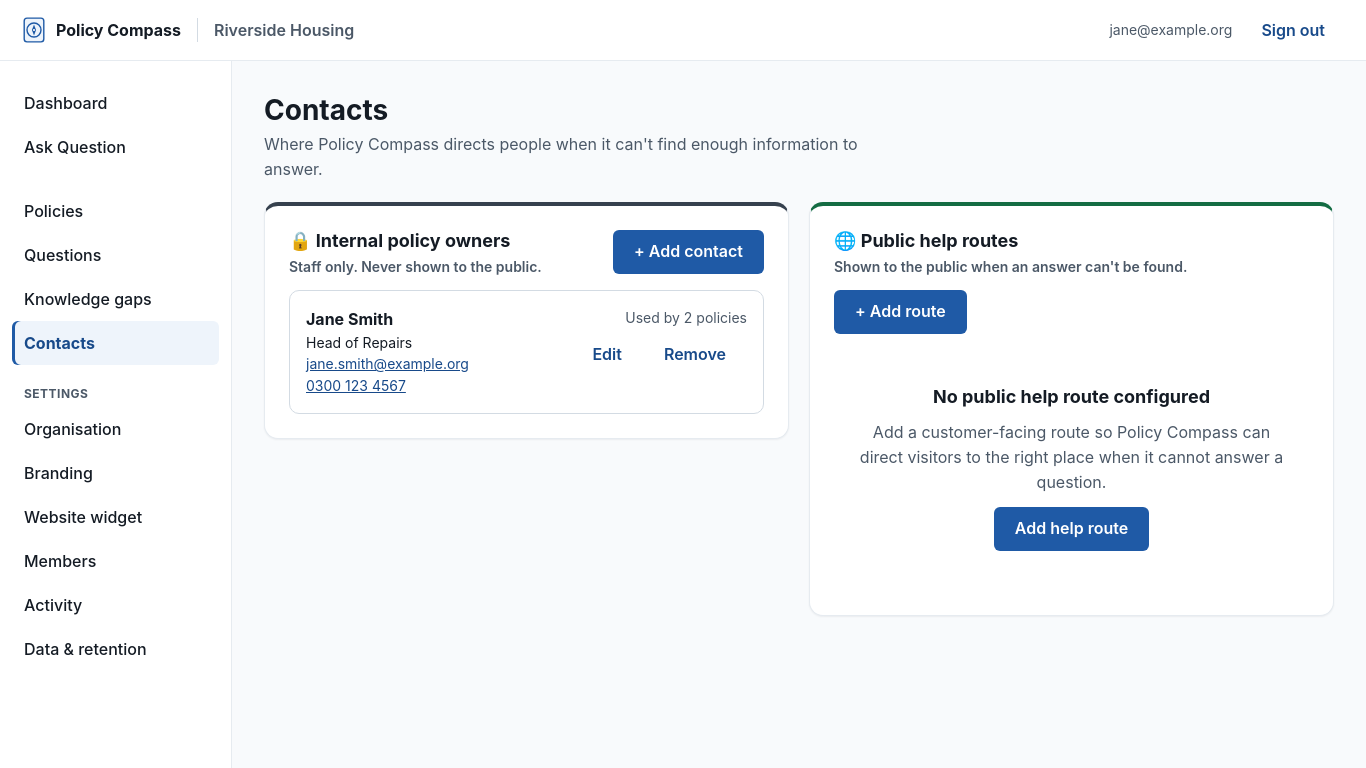
Scenario: Contacts page › warns how many policies use a contact before removing it
Click the button with aria-label "Remove Jane Smith" at [695, 354], box x1=643 y1=332 x2=747 y2=376
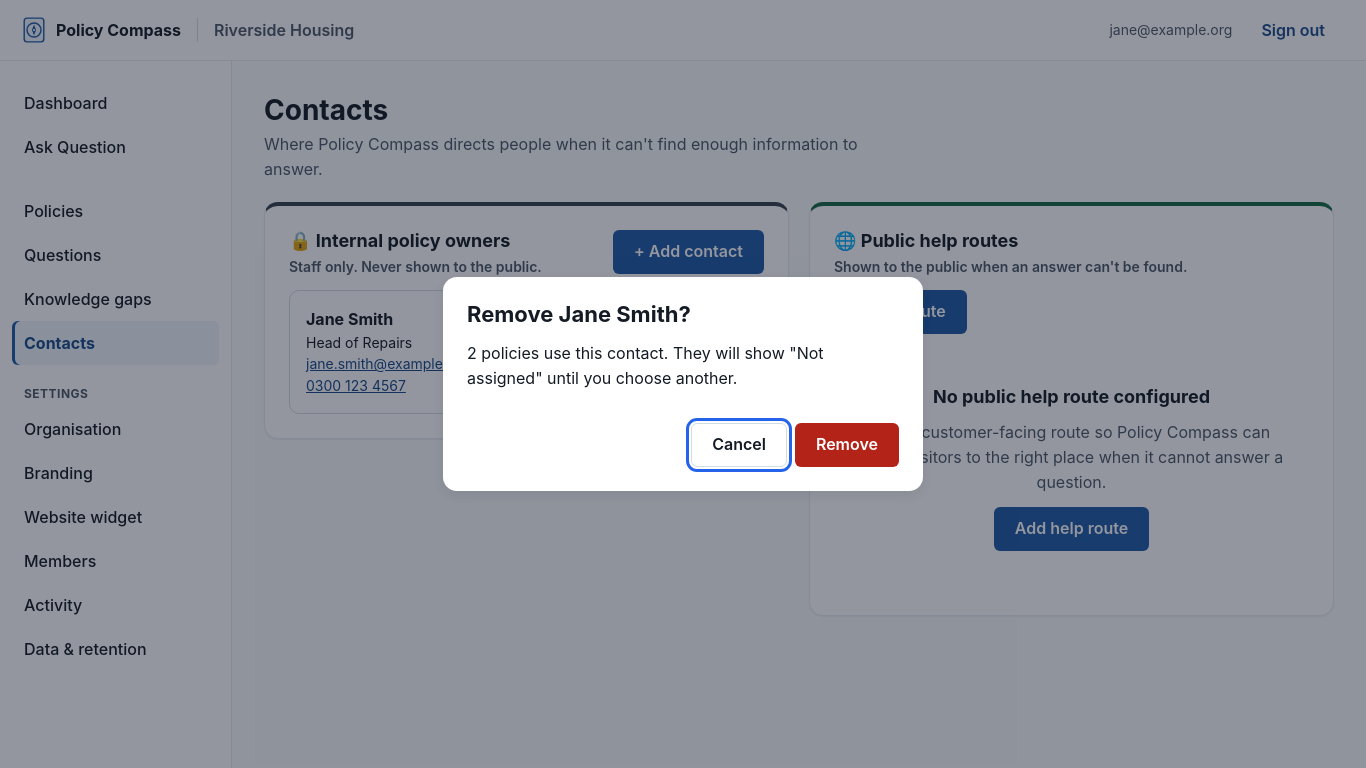
Result: the dialog "Remove Jane Smith?" shows "2 policies use this contact. They will show \"Not assigned\"" at x1=467 y1=343 x2=824 y2=388
Click the button "Remove" at [847, 444], box x1=795 y1=422 x2=899 y2=466
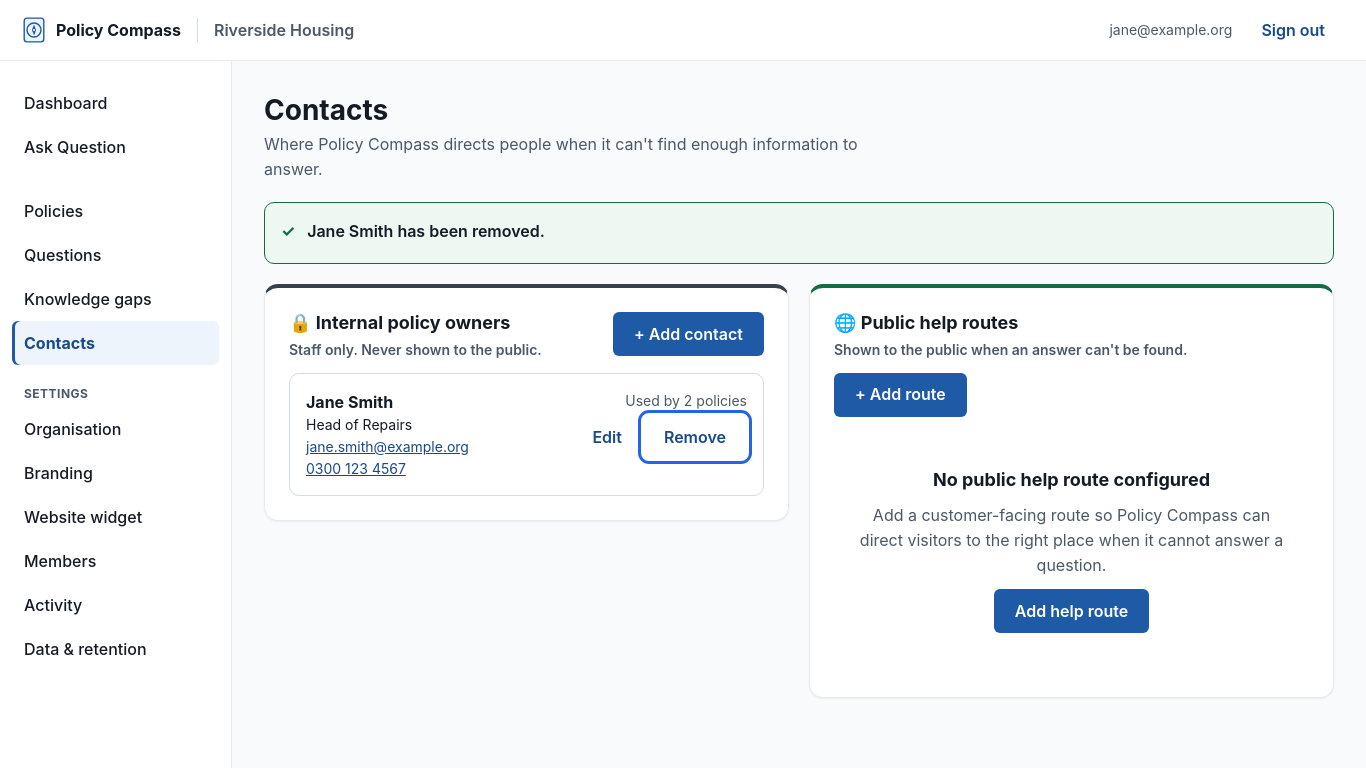
Result: the text "Jane Smith has been removed." is shown at x1=307 y1=219 x2=545 y2=243
